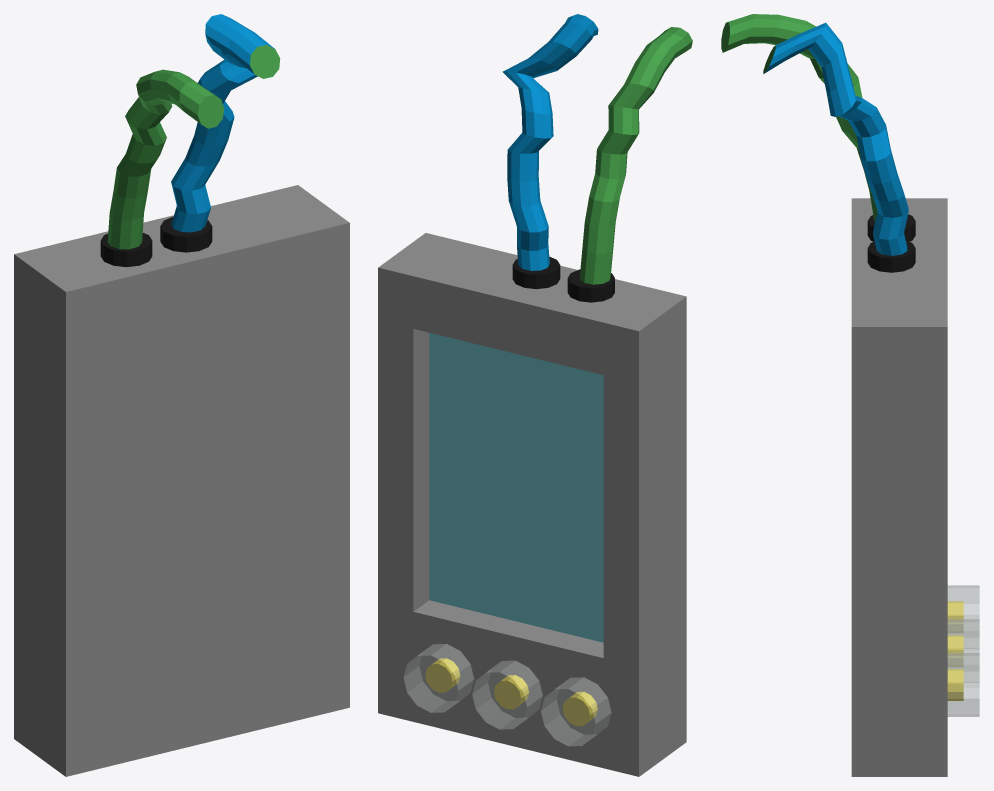
File: Biometric Scanner.fbx
3 views of the same model, side by side, from view 1: azimuth 30°, elevation 25°; view 2: azimuth 150°, elevation 25°; view 3: azimuth 270°, elevation 25° (orthographic). The views are drawn at different scales.
Visible parts, largest first — view 1: mesh2027047790; view 2: mesh2027047790; view 3: mesh2027047790.
Boxes of the visible parts, x1=… form: mesh2027047790: x1=14, y1=14, x2=349, y2=776; mesh2027047790: x1=378, y1=14, x2=692, y2=776; mesh2027047790: x1=721, y1=14, x2=979, y2=776.
Bounding box in the file's own units: 2.19 × 5.45 × 1.86.
